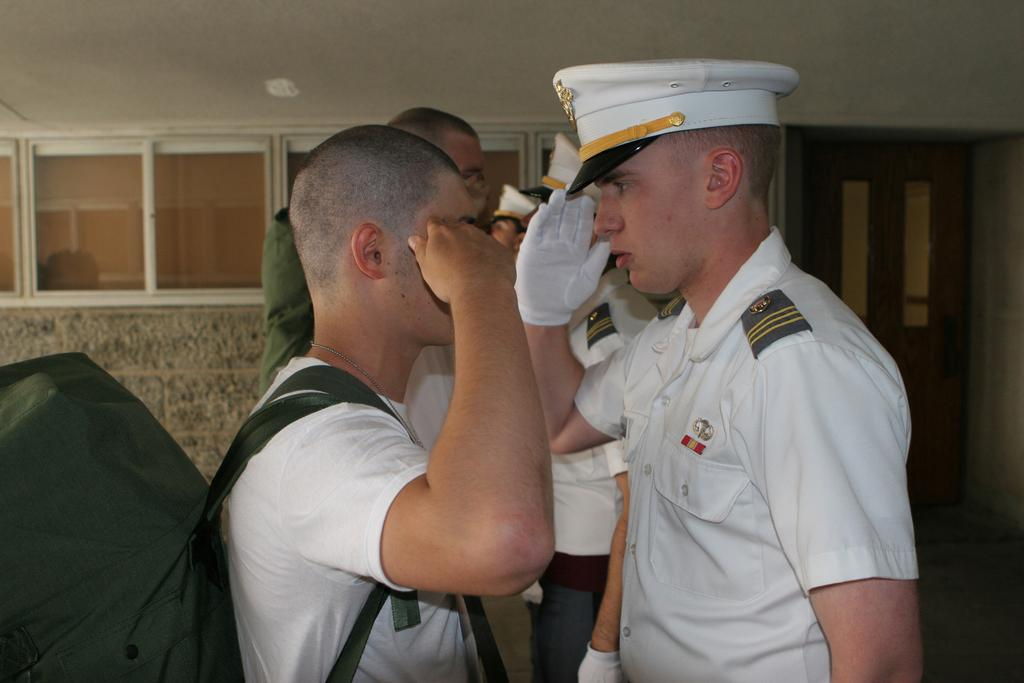Hat: (552, 64, 802, 199), (518, 132, 600, 214), (482, 183, 538, 229)
